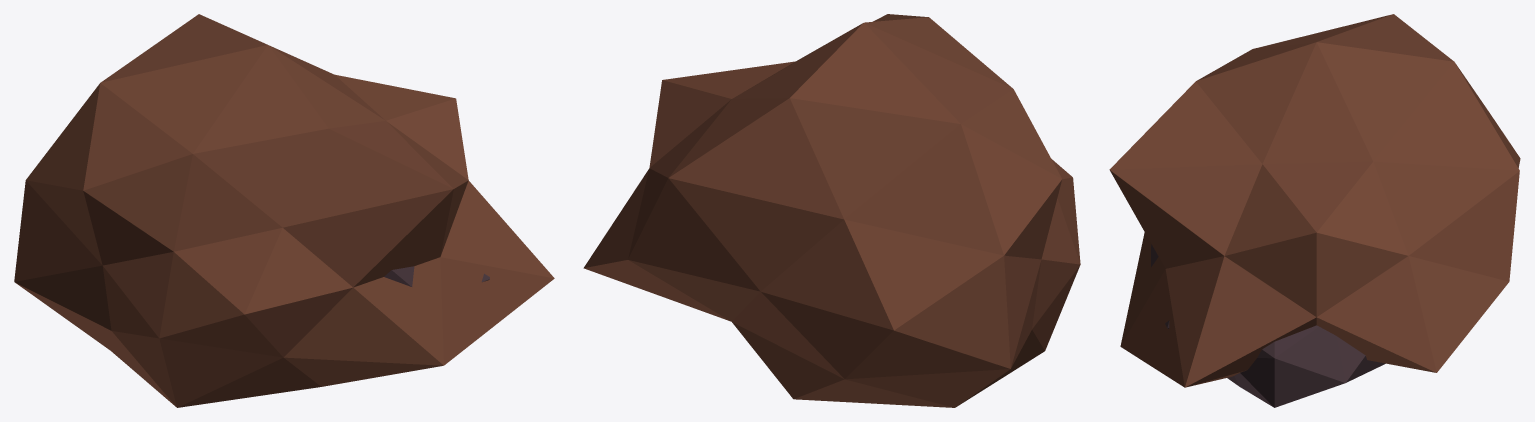
The model's file is RockB.fbx.
The picture shows the model from 3 angles, left to right: view 1: azimuth 30°, elevation 25°; view 2: azimuth 150°, elevation 25°; view 3: azimuth 270°, elevation 25°; orthographic projection. The views are drawn at different scales.
Parts seen in each view (by area): view 1: SM_RockB_MAT_RockRust; view 2: SM_RockB_MAT_RockRust; view 3: SM_RockB_MAT_RockRust, SM_RockB_MAT_Rock.
Part boxes in pixels (x1=…): SM_RockB_MAT_RockRust: x1=14, y1=14, x2=554, y2=407; SM_RockB_MAT_RockRust: x1=583, y1=14, x2=1080, y2=407; SM_RockB_MAT_RockRust: x1=1109, y1=14, x2=1520, y2=387; SM_RockB_MAT_Rock: x1=1151, y1=244, x2=1385, y2=407.
Size of the model in its own units: 1.34 by 0.9299 by 1.15.
